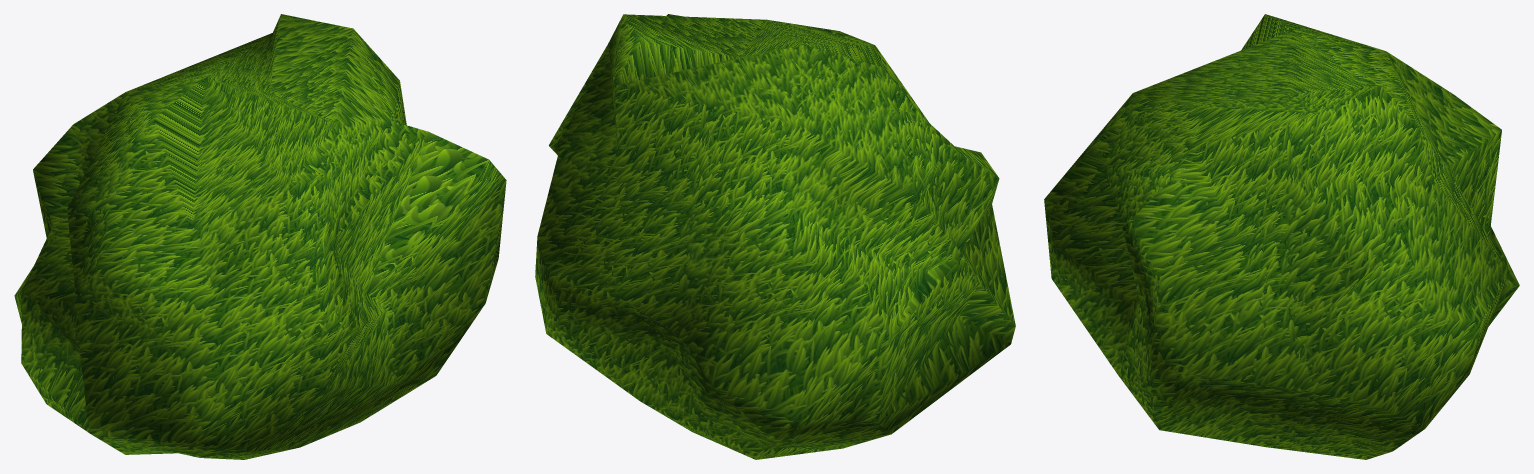
Rendered from bush1.fbx.
The picture shows the model from 3 angles, left to right: view 1: azimuth 30°, elevation 25°; view 2: azimuth 150°, elevation 25°; view 3: azimuth 270°, elevation 25°; orthographic projection. The views are drawn at different scales.
Parts seen in each view (by area): view 1: Box010; view 2: Box010; view 3: Box010.
Boxes of the visible parts, bbox=[...] form: Box010: bbox=[14, 14, 506, 459]; Box010: bbox=[535, 14, 1015, 459]; Box010: bbox=[1044, 14, 1519, 459].
Bounding box in the file's own units: 121 × 107 × 116.
1 material, 1 textured.
